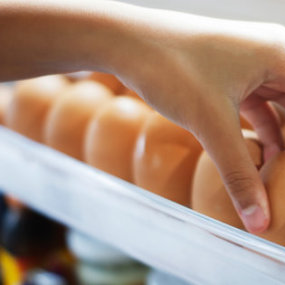egg: (4, 71, 285, 248)
